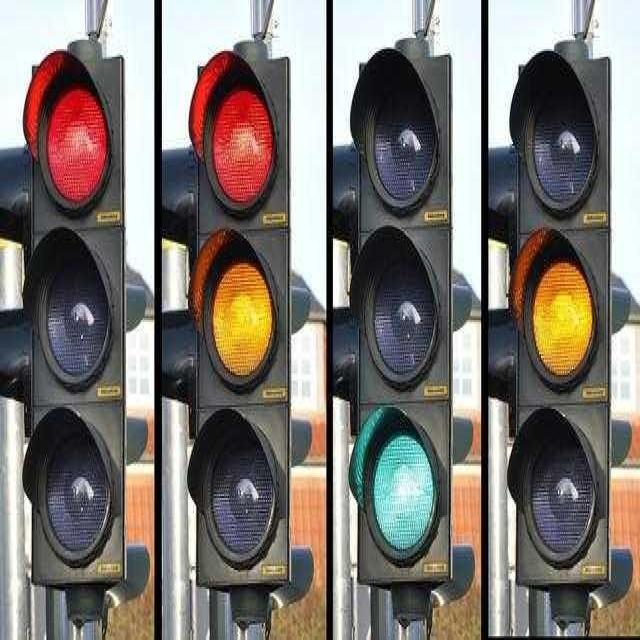Traffic Light -Green-: (349, 49, 460, 594), (358, 422, 444, 564)
Traffic Light -Red-: (16, 45, 127, 596), (191, 48, 286, 228)
Traffic Light -Yellow-: (180, 36, 298, 588), (508, 52, 621, 589), (184, 236, 293, 400)
